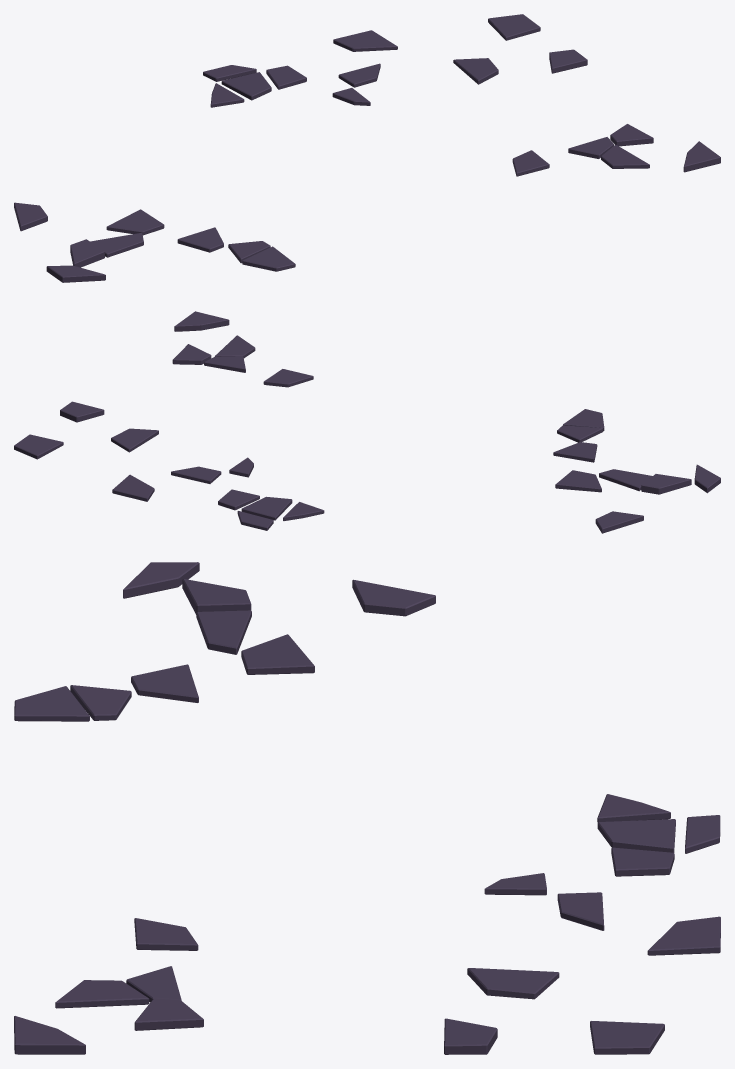
File: Floor3_StoneDark.fbx
3 renders of one model, top to bottom at view 1: azimuth 30°, elevation 25°; view 2: azimuth 150°, elevation 25°; view 3: azimuth 270°, elevation 25°, orthographic. The views are drawn at different scales.
Visible parts, largest first — view 1: Slab2_0_2.001; view 2: Slab2_0_2.001; view 3: Slab2_0_2.001.
Boxes of the visible parts, box(x1,y1,x2,y2) form: Slab2_0_2.001: box(14, 14, 720, 282); Slab2_0_2.001: box(14, 311, 720, 533); Slab2_0_2.001: box(14, 562, 720, 1054).
Size of the model in its own units: 14964 by 177 by 9244.
